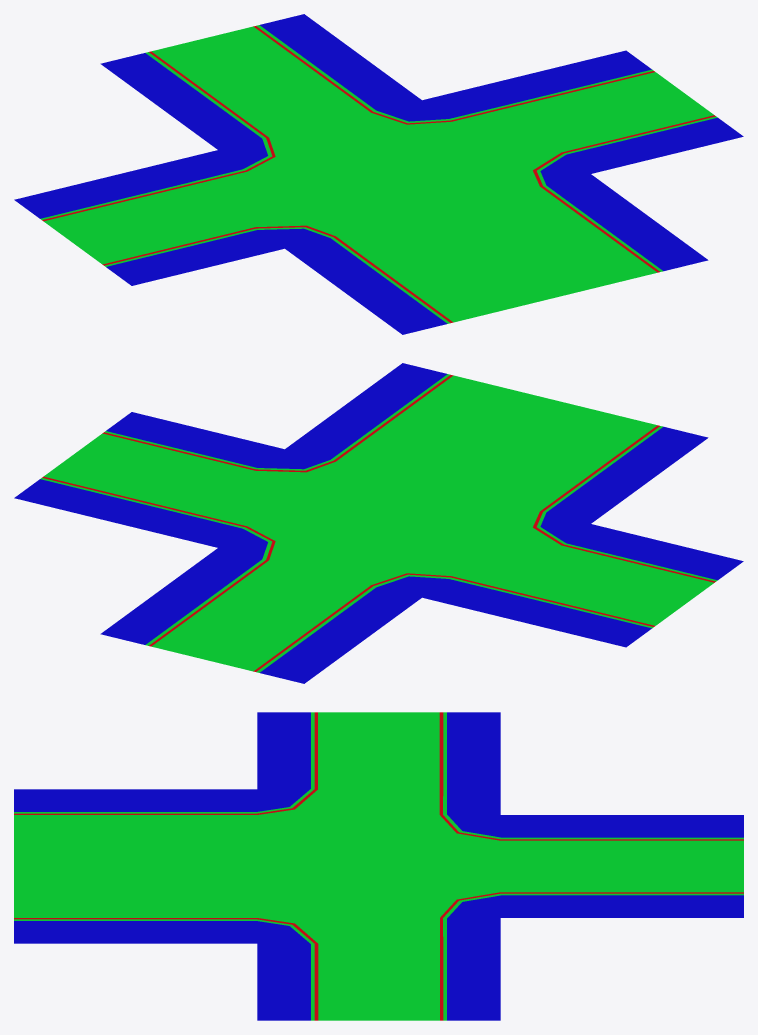
File: thin_4way_1_wide.fbx
3 renders of one model, top to bottom at view 1: azimuth 30°, elevation 25°; view 2: azimuth 150°, elevation 25°; view 3: azimuth 270°, elevation 25°, orthographic. The views are drawn at different scales.
Parts seen in each view (by area): view 1: Plane.079; view 2: Plane.079; view 3: Plane.079.
Part boxes in pixels (<box>): Plane.079: <box>14,14,743,334</box>; Plane.079: <box>14,363,743,683</box>; Plane.079: <box>14,712,743,1020</box>.
Size of the model in its own units: 1200 by 0.000196 by 1200.
